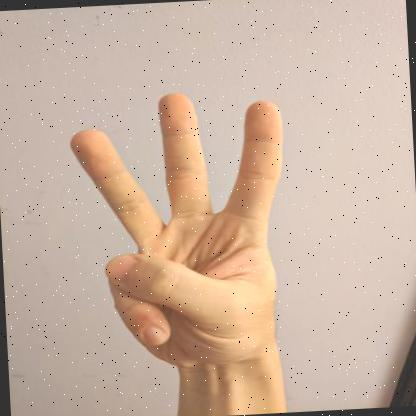W: (70, 92, 282, 372)
